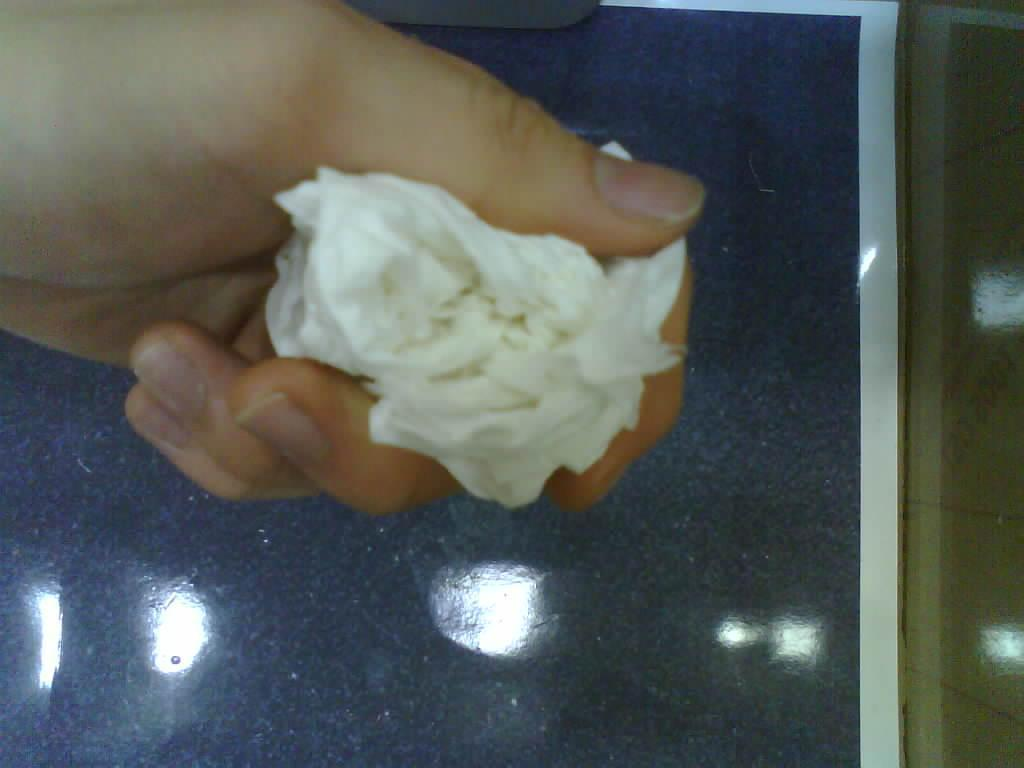paper: (266, 135, 686, 506)
